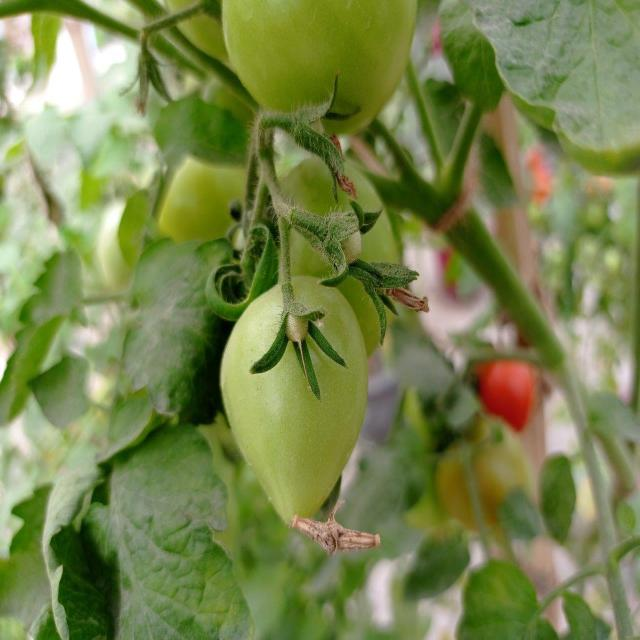Unripe: (216, 268, 371, 526)
